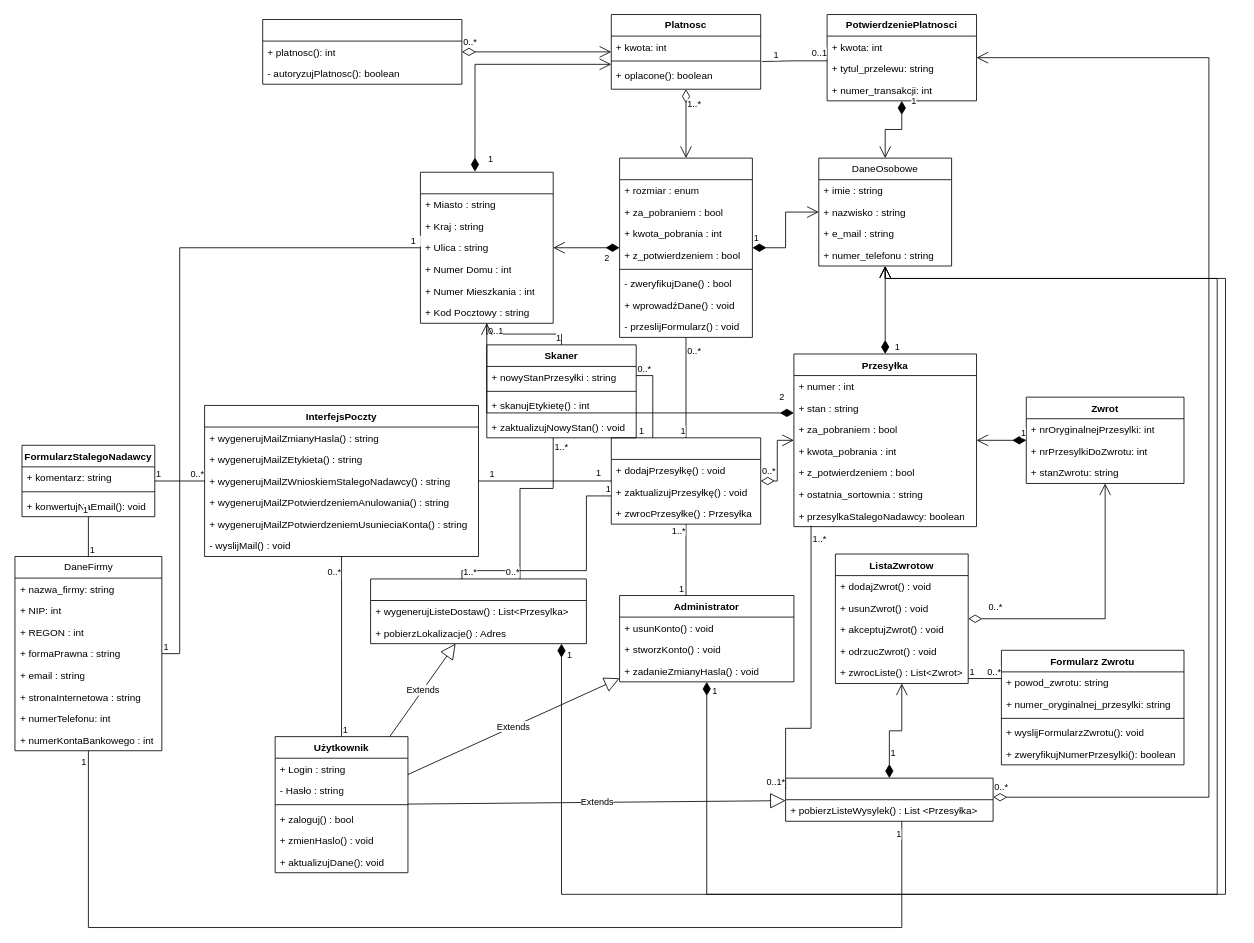
This 1254x943 diagram has some shape labels left out. Here are the shapes that lost their labels. From the top down, the box of each, then its label:
(262, 19, 462, 84): InterfejsObslugiPlatnosci
(420, 171, 553, 323): Adres
(619, 157, 752, 337): Formularz Wysyłki
(610, 437, 761, 524): Rejestr Przesyłek
(370, 578, 586, 644): Kurier
(785, 777, 993, 821): Stały Nadawca
